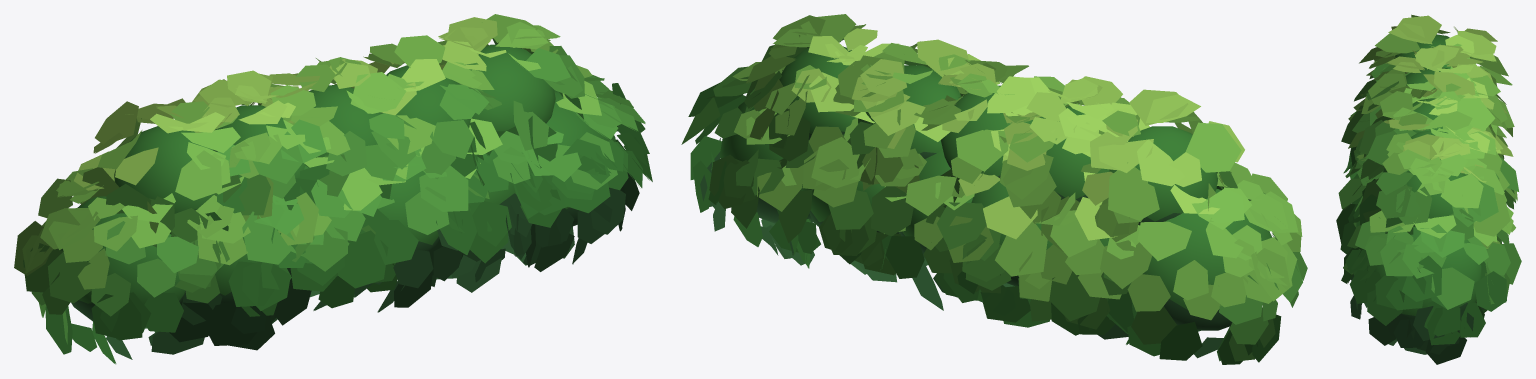
Rendered from HedgeStraight.glb.
3 views of the same model, side by side, from view 1: azimuth 30°, elevation 25°; view 2: azimuth 150°, elevation 25°; view 3: azimuth 270°, elevation 25° (orthographic). The views are drawn at different scales.
Visible parts, largest first — view 1: Body; view 2: Body; view 3: Body.
Boxes of the visible parts, x1=… form: Body: x1=14, y1=14, x2=652, y2=364; Body: x1=681, y1=14, x2=1307, y2=364; Body: x1=1336, y1=14, x2=1521, y2=364.
Size of the model in its own units: 8.7 by 3.39 by 2.93.
1 material, 1 textured.
